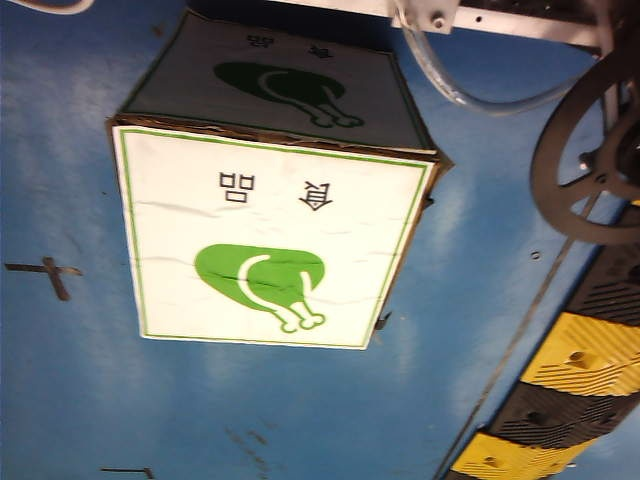Cube_food: (173, 165, 361, 332)
